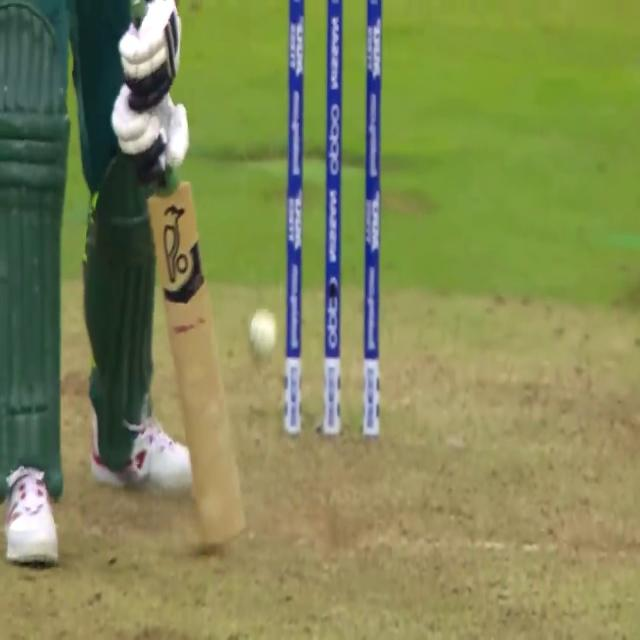ball: (234, 286, 286, 382)
